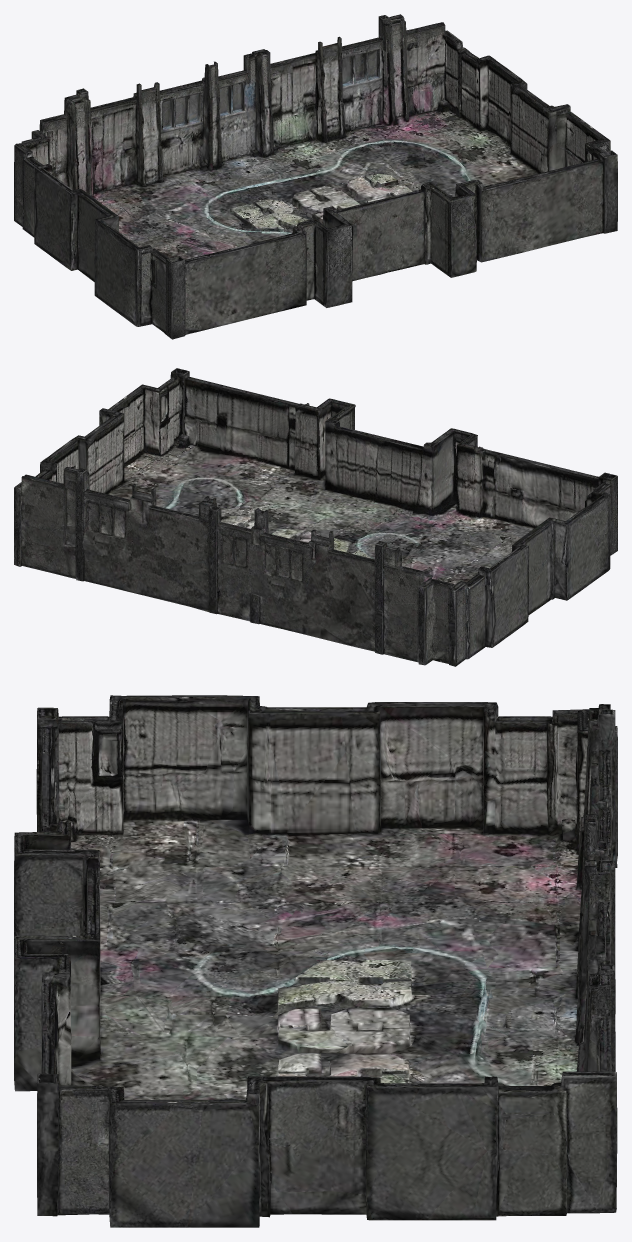
Rendered from skatepark_floor.glb.
3 views of the same model, one above another, from view 1: azimuth 30°, elevation 25°; view 2: azimuth 150°, elevation 25°; view 3: azimuth 270°, elevation 25° (orthographic). The views are drawn at different scales.
Size of the model in its own units: 1.88 by 0.4199 by 1.2.
Materials: 1 (1 with a texture image).
